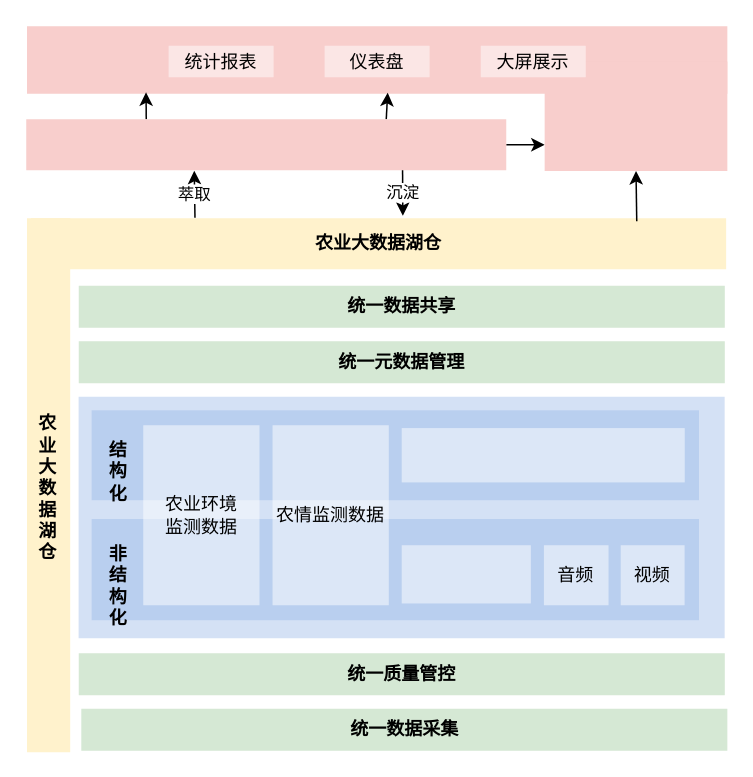
This 753x777 diagram has some shape labels left out. Here are the shapes that lost their labels. From the top down, the centre of each, then its label:
At [635,115]: "农业决策".
At [266,144]: "农业智能".
At [542,454]: "农业事务操作数据".
At [465,573]: "卫星、无人机 影像数据".
